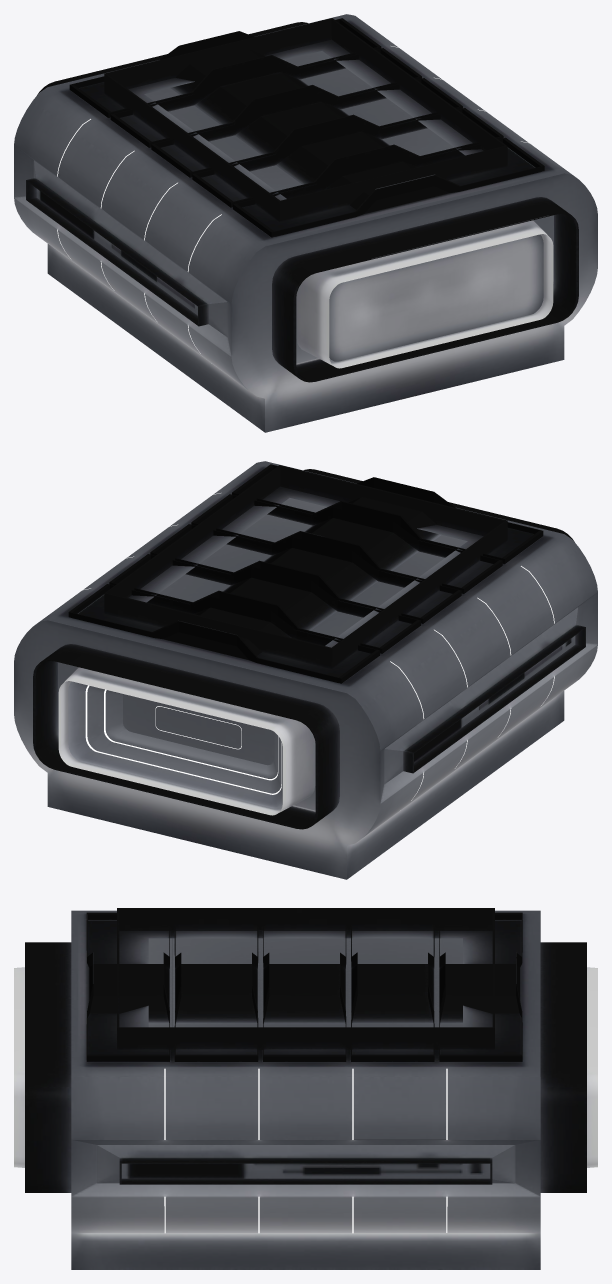
File: sci-fi-vr-room-baked.gltf
3 renders of one model, top to bottom at view 1: azimuth 30°, elevation 25°; view 2: azimuth 150°, elevation 25°; view 3: azimuth 270°, elevation 25°, orthographic. The views are drawn at different scales.
Parts seen in each view (by area): view 1: Base _Material.001_0, roof_Material.032_0; view 2: Base _Material.001_0, roof_Material.032_0, Base_lighting_Material.013_0; view 3: Base _Material.001_0, roof_Material.032_0, Base_lighting_Material.013_0.
Part boxes in pixels (x1,y1,x2,y2): Base _Material.001_0: [14, 14, 597, 432]; roof_Material.032_0: [69, 18, 544, 237]; Base _Material.001_0: [14, 461, 597, 879]; roof_Material.032_0: [68, 464, 543, 683]; Base_lighting_Material.013_0: [83, 493, 554, 800]; Base _Material.001_0: [14, 908, 597, 1269]; roof_Material.032_0: [86, 912, 522, 1061]; Base_lighting_Material.013_0: [164, 1068, 447, 1233].
Size of the model in its own units: 17.84 by 9.12 by 21.61.
Materials: 10 (7 with a texture image).
